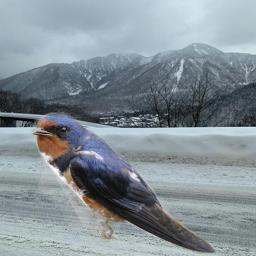Swallow: (30, 112, 217, 254)
